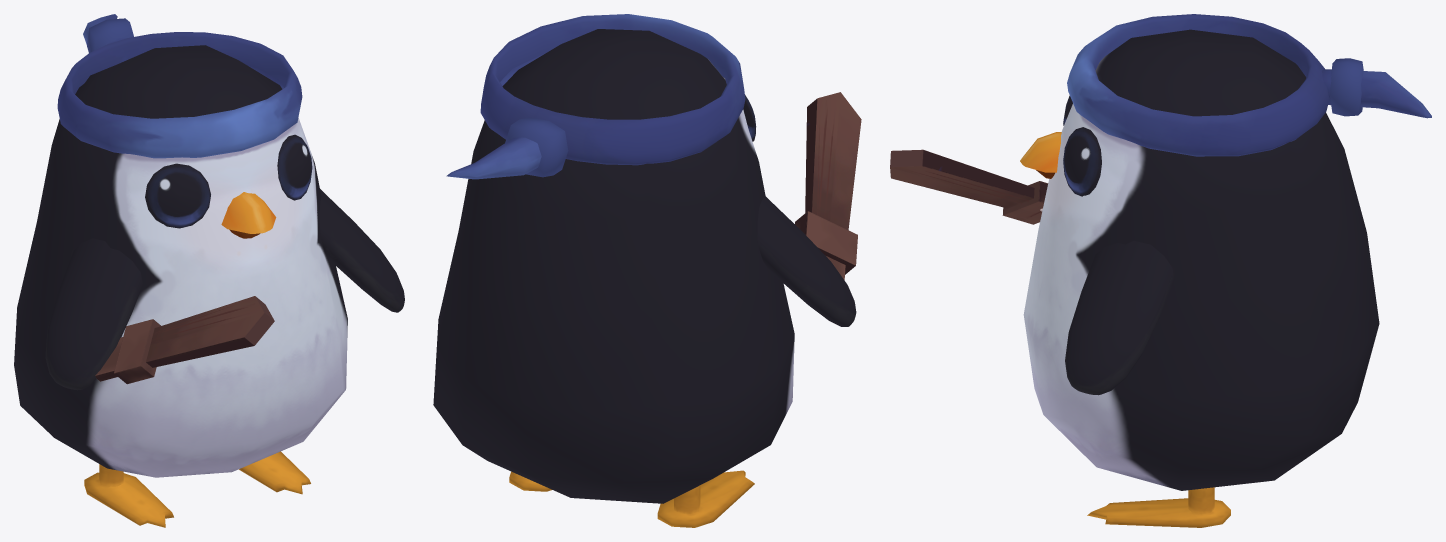
File: penguin_-_tft.glb
3 views of the same model, side by side, from view 1: azimuth 30°, elevation 25°; view 2: azimuth 150°, elevation 25°; view 3: azimuth 270°, elevation 25° (orthographic). The views are drawn at different scales.
Parts seen in each view (by area): view 1: penguin; view 2: penguin; view 3: penguin.
Boxes of the visible parts, x1,y1,x2,y2 form: penguin: [14, 14, 404, 527]; penguin: [433, 14, 861, 527]; penguin: [890, 14, 1431, 527].
Size of the model in its own units: 5.25 by 5.94 by 6.71.
1 material, 1 textured.
